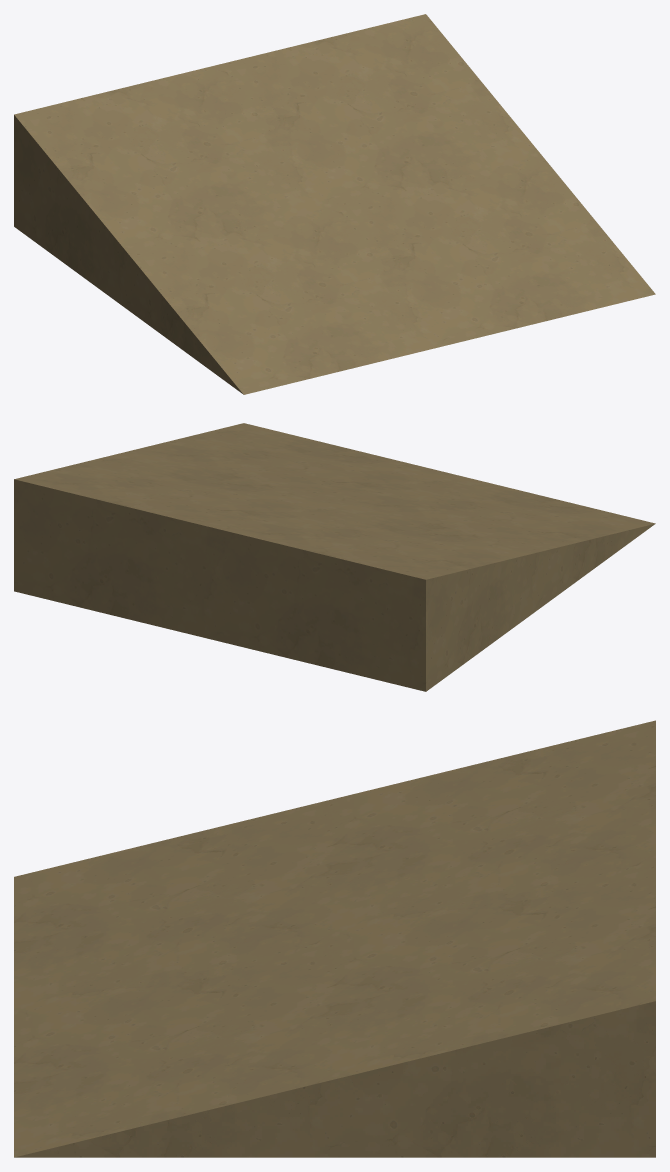
The model's file is SM_road_12.glb.
3 views of the same model, one above another, from view 1: azimuth 30°, elevation 25°; view 2: azimuth 150°, elevation 25°; view 3: azimuth 270°, elevation 25° (orthographic). The views are drawn at different scales.
Visible parts, largest first — view 1: SM_road_12; view 2: SM_road_12; view 3: SM_road_12.
Boxes of the visible parts, bbox=[...] form: SM_road_12: bbox=[14, 14, 655, 394]; SM_road_12: bbox=[14, 423, 655, 691]; SM_road_12: bbox=[14, 720, 655, 1157].
Size of the model in its own units: 5 by 1.3 by 4.83.
Materials: 1 (1 with a texture image).
